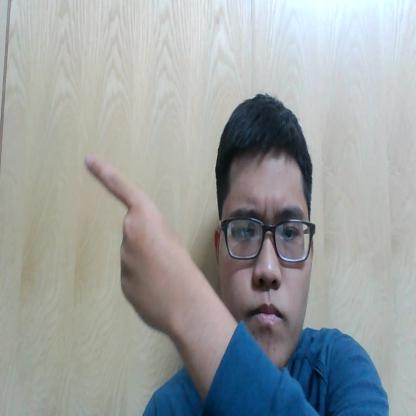right: (73, 146, 196, 350)
